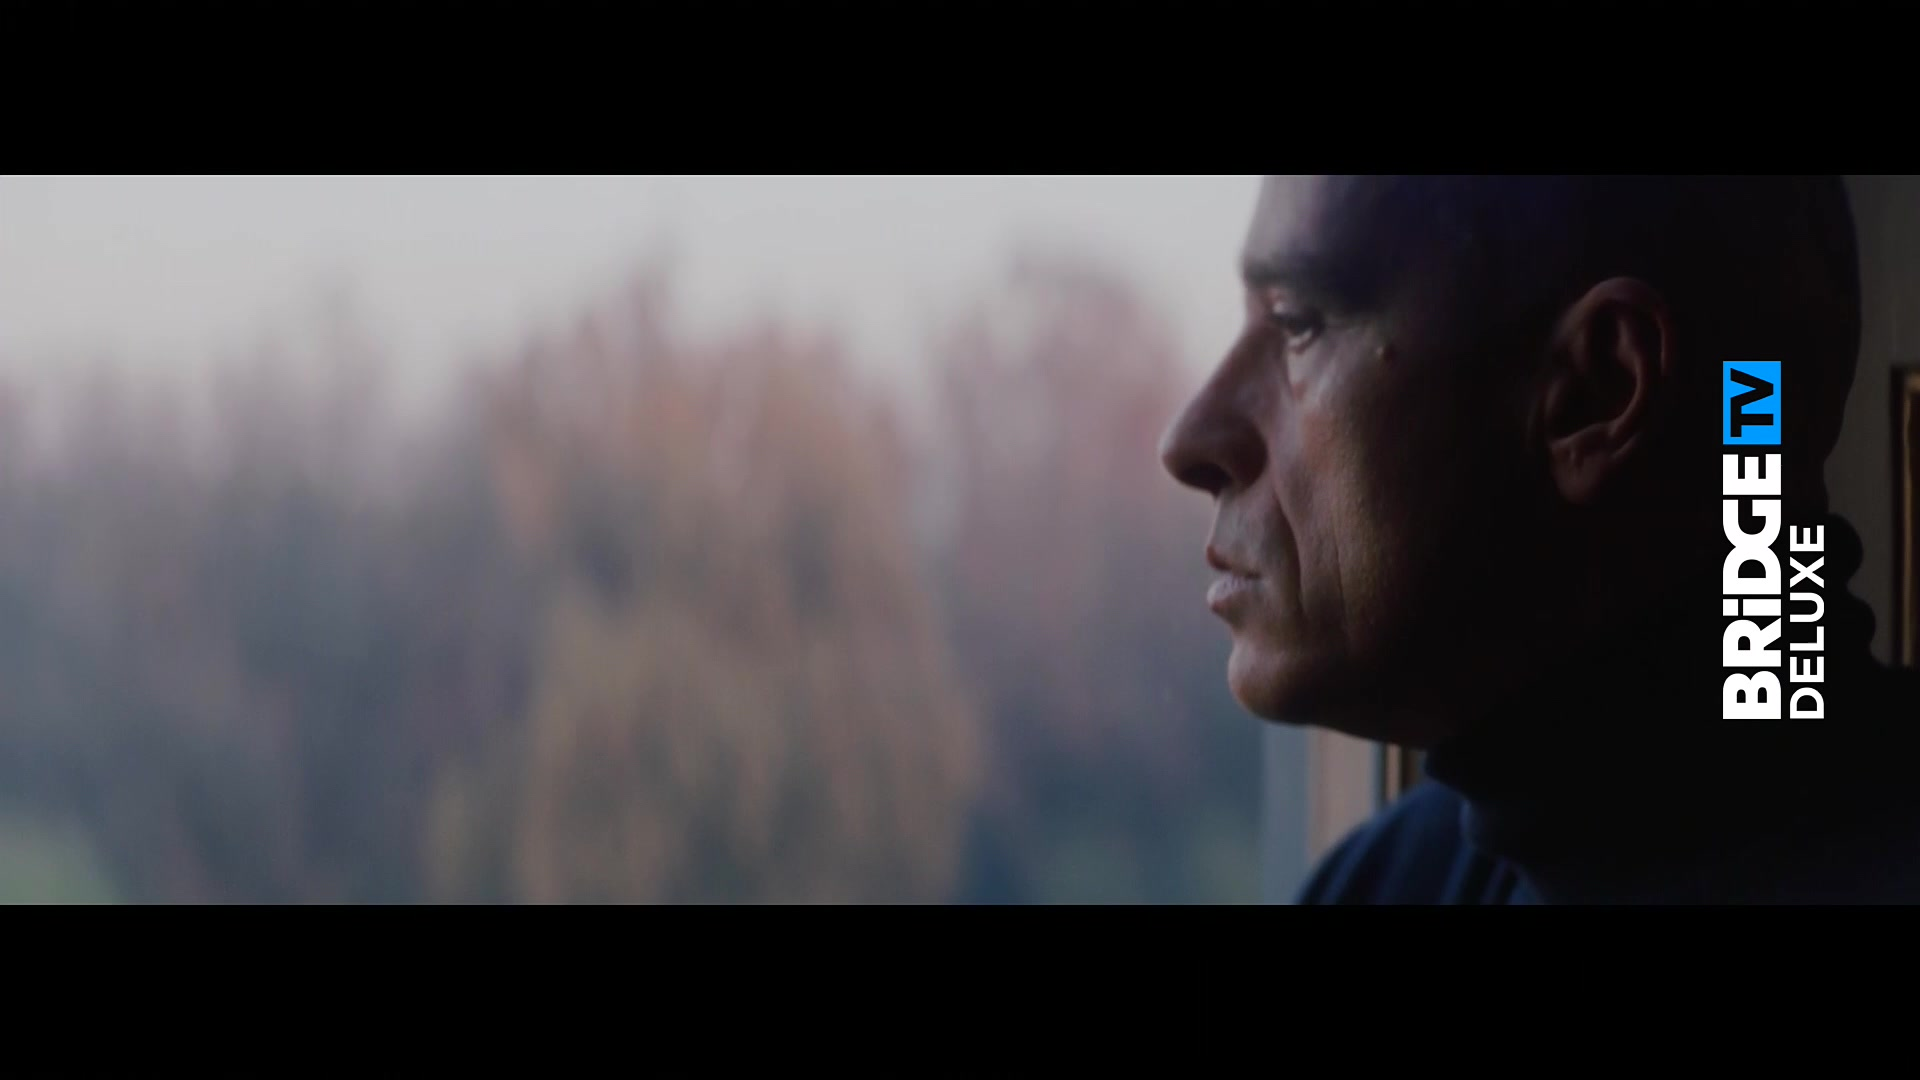Bridge_TV_Deluxe: (1712, 353, 1828, 727)
